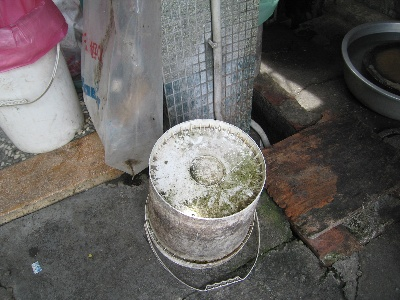bowl: (342, 20, 400, 120), (1, 1, 69, 73)
bucket: (145, 119, 268, 268), (1, 42, 86, 153)
plastic_bag: (80, 1, 162, 179)
